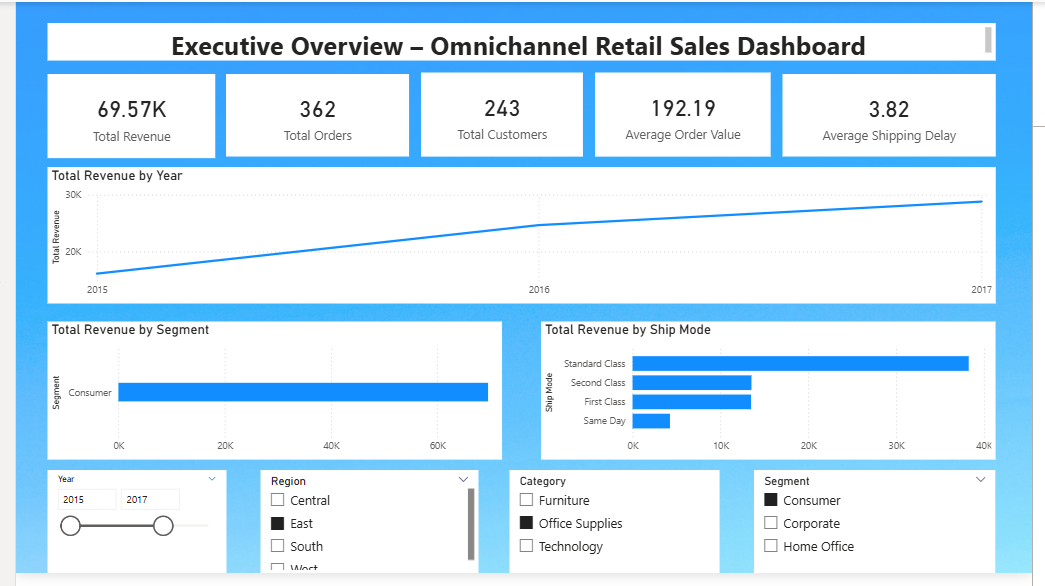

The dashboard page shown, as its layout file describes it:
{"tool":"powerbi","page":{"name":"Executive Overview Part_1","canvas":[1280,720],"ordinal":0},"visuals":[{"type":"textbox","box":[39.7,26.5,1194.3,47.2],"z":0},{"type":"card","fields":{"Values":["cleaned_train.Total Revenue"]},"box":[39.7,90.7,211.7,105.8],"z":1000},{"type":"card","fields":{"Values":["cleaned_train.Total Orders"]},"box":[264.6,90.7,230.6,103.9],"z":2000},{"type":"card","fields":{"Values":["cleaned_train.Total Customers"]},"box":[510.2,88.8,204.1,105.8],"z":3000},{"type":"card","fields":{"Values":["cleaned_train.Average Order Value"]},"box":[729.5,88.8,221.1,105.8],"z":4000},{"type":"card","fields":{"Values":["cleaned_train.Average Shipping Delay"]},"box":[965.7,90.7,268.3,103.9],"z":5000},{"type":"lineChart","fields":{"Category":["cleaned_train.Month Start.Variation.Date Hierarchy.Year","cleaned_train.Month Start.Variation.Date Hierarchy.Quarter","cleaned_train.Month Start.Variation.Date Hierarchy.Month","cleaned_train.Month Start.Variation.Date Hierarchy.Day"],"Y":["cleaned_train.Total Revenue"]},"box":[39.7,207.9,1194.3,172],"z":6000},{"type":"clusteredBarChart","fields":{"Category":["cleaned_train.Segment"],"Y":["cleaned_train.Total Revenue"]},"box":[39.7,402.5,572.6,173.9],"z":7000},{"type":"clusteredBarChart","fields":{"Category":["cleaned_train.Ship Mode"],"Y":["cleaned_train.Total Revenue"]},"box":[661.4,402.5,572.6,173.9],"z":8000},{"type":"slicer","fields":{"Values":["cleaned_train.Year"]},"box":[39.7,589.6,224.9,130.4],"z":9000},{"type":"slicer","fields":{"Values":["cleaned_train.Region"]},"box":[308,589.6,274,130.4],"z":10000},{"type":"slicer","fields":{"Values":["cleaned_train.Category"]},"box":[621.7,589.6,264.6,130.4],"z":11000},{"type":"slicer","fields":{"Values":["cleaned_train.Segment"]},"box":[929.8,589.6,304.3,130.4],"z":12000}]}

Visuals, with their boxes in screenshot pixels (x1, y1, x2, y2), scaled from the page's 1280x720 canvas onto the 1045x586 screenshot:
textbox: x1=32, y1=22, x2=1007, y2=60
card - cleaned_train.Total Revenue: x1=32, y1=74, x2=205, y2=160
card - cleaned_train.Total Orders: x1=216, y1=74, x2=404, y2=158
card - cleaned_train.Total Customers: x1=417, y1=72, x2=583, y2=158
card - cleaned_train.Average Order Value: x1=596, y1=72, x2=776, y2=158
card - cleaned_train.Average Shipping Delay: x1=788, y1=74, x2=1007, y2=158
lineChart - cleaned_train.Month Start.Variation.Date Hierarchy.Year x cleaned_train.Month Start.Variation.Date Hierarchy.Quarter: x1=32, y1=169, x2=1007, y2=309
clusteredBarChart - cleaned_train.Segment x cleaned_train.Total Revenue: x1=32, y1=328, x2=500, y2=469
clusteredBarChart - cleaned_train.Ship Mode x cleaned_train.Total Revenue: x1=540, y1=328, x2=1007, y2=469
slicer - cleaned_train.Year: x1=32, y1=480, x2=216, y2=585
slicer - cleaned_train.Region: x1=251, y1=480, x2=475, y2=585
slicer - cleaned_train.Category: x1=508, y1=480, x2=724, y2=585
slicer - cleaned_train.Segment: x1=759, y1=480, x2=1008, y2=585
